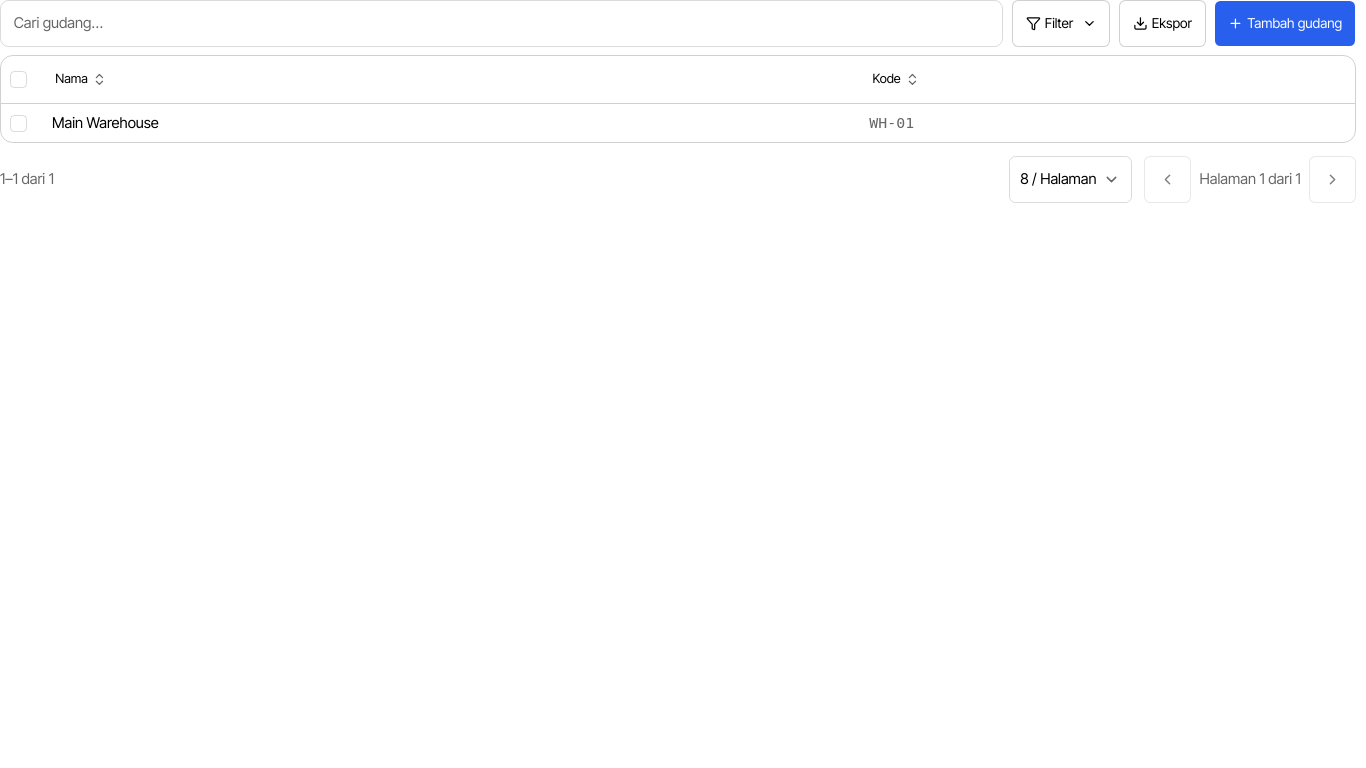
WarehousesSection › opens the create dialog from the add button
Expected: the link "Main Warehouse" is shown, [52,114,159,132]
Click the button "Tambah gudang" at (1285, 23), box [1214,0,1356,47]
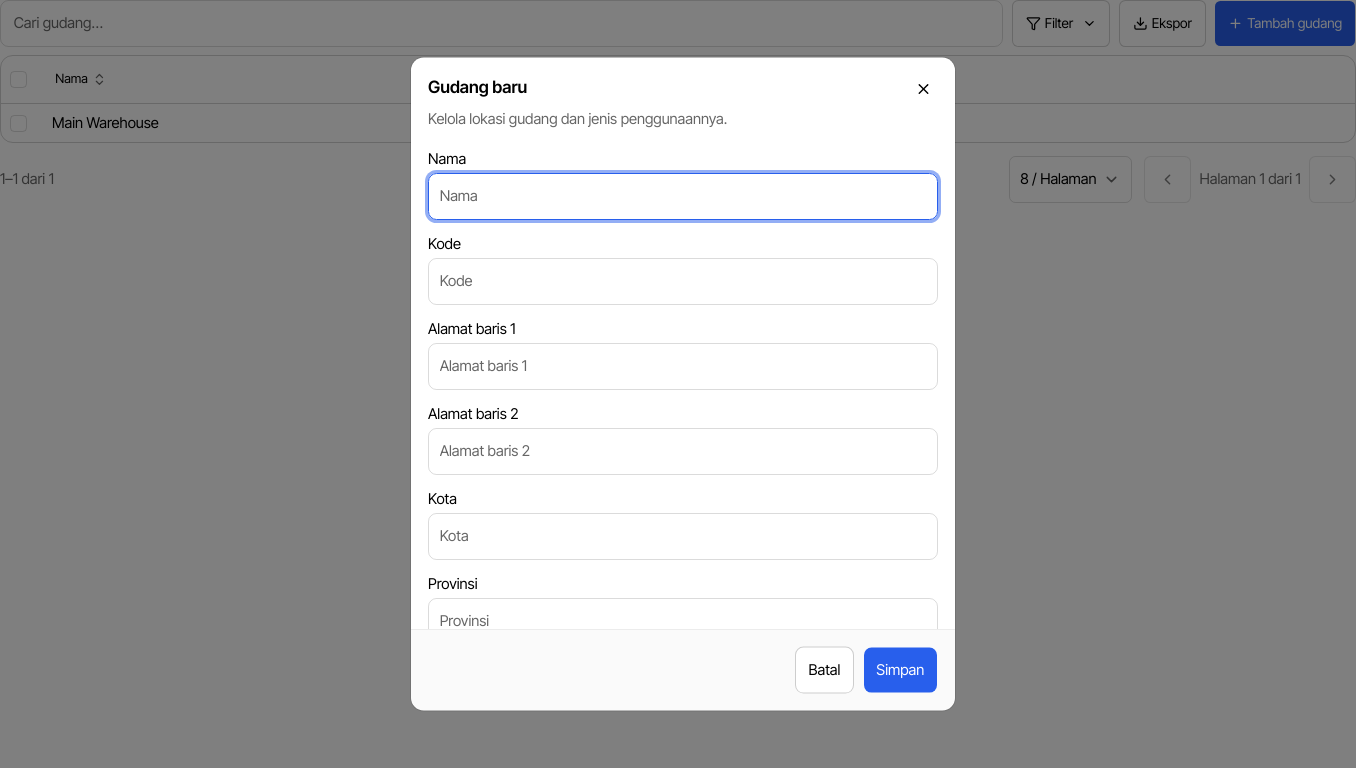
Expected: the heading "Gudang baru" is shown, [428,75,527,100]
